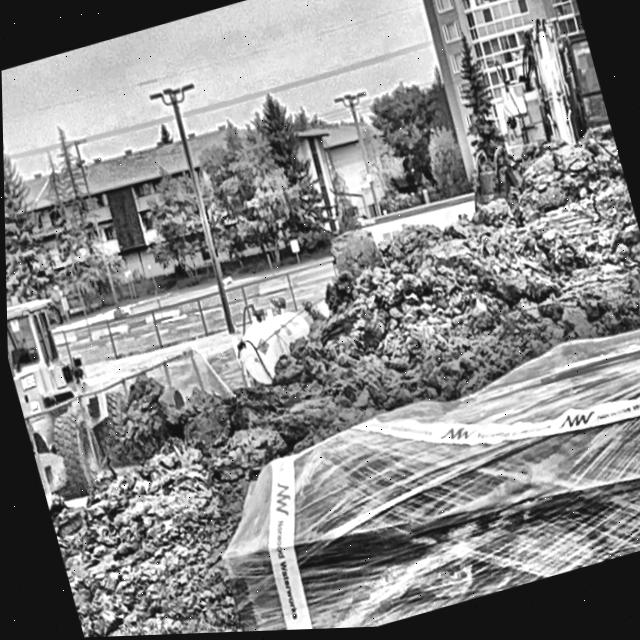buldozerpayloadergrader: (5, 279, 146, 491)
excavator: (471, 12, 614, 175)
